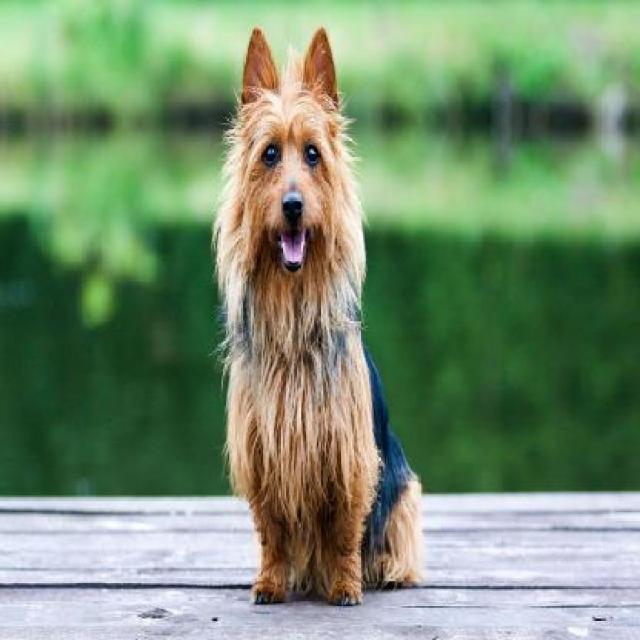animals: (205, 19, 429, 556)
